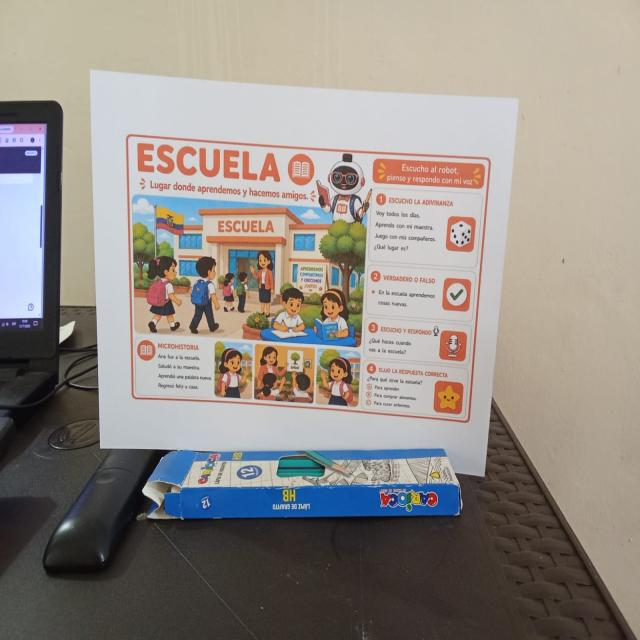escuela: (122, 129, 494, 428)
